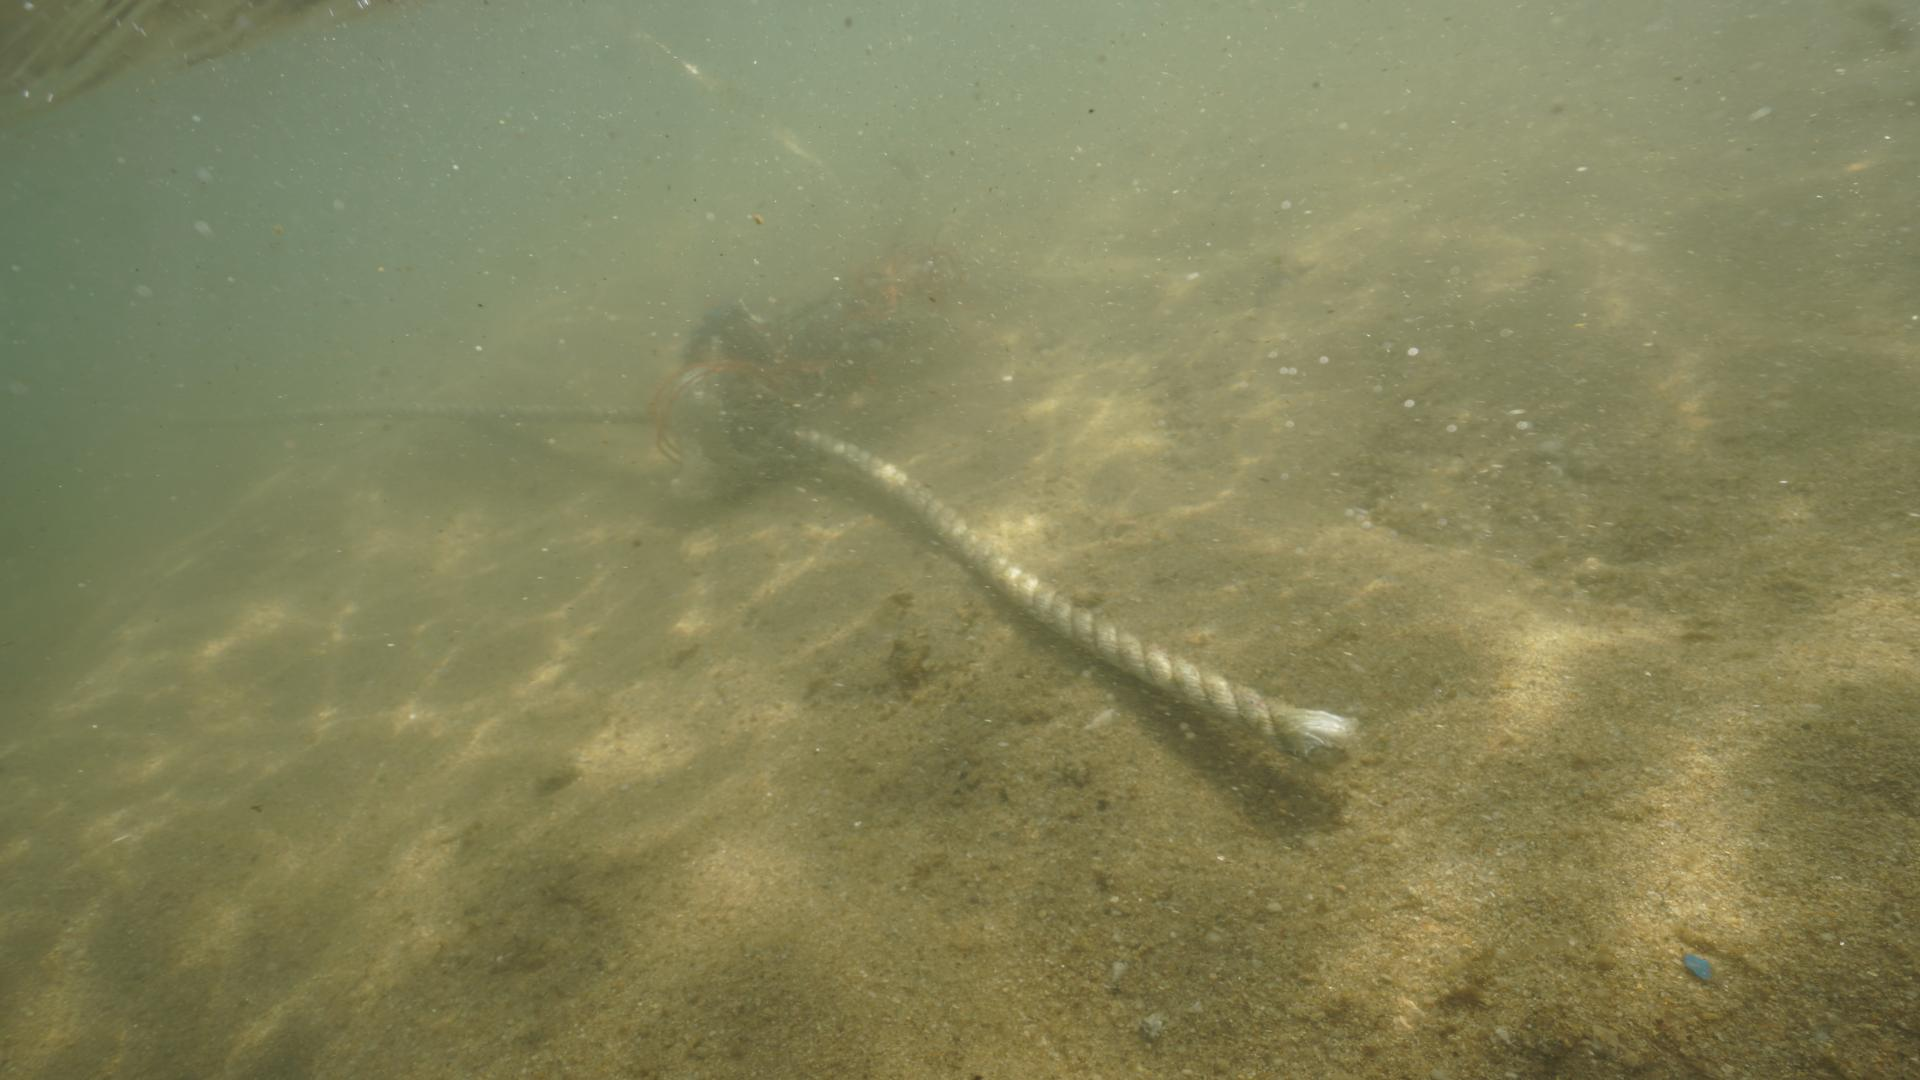rope: (313, 394, 1305, 746)
